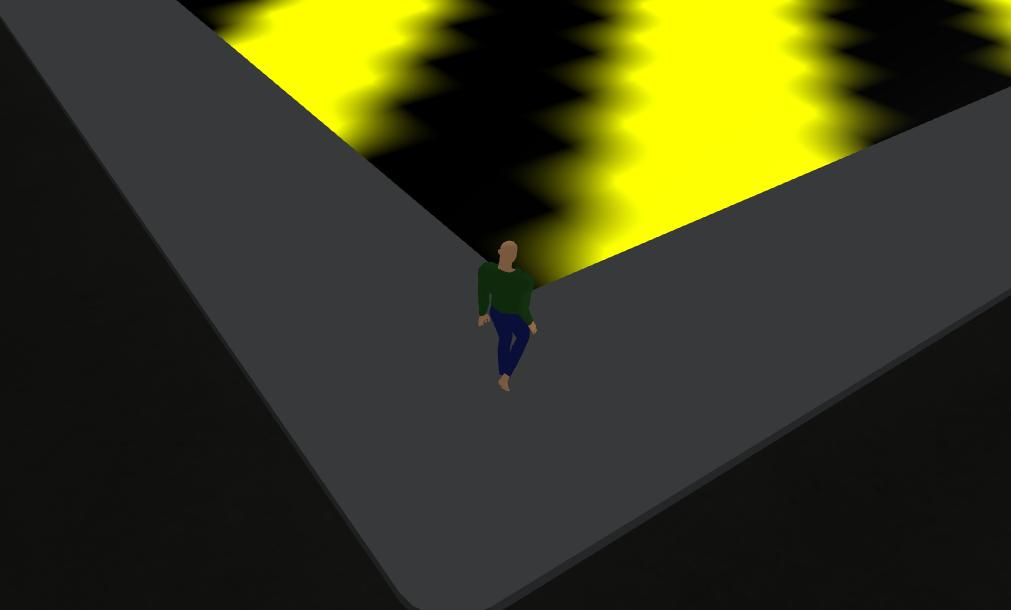human: (451, 226, 542, 408)
